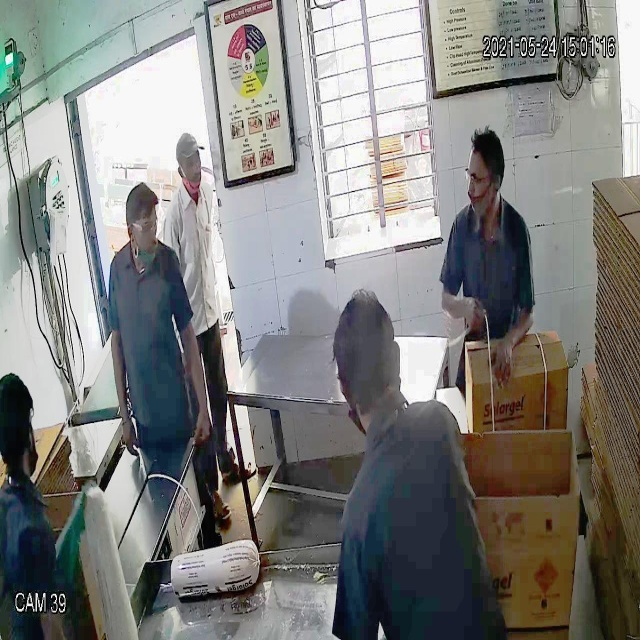Gafas: (459, 160, 502, 191), (123, 214, 163, 241)
Sin_gafas: (175, 152, 207, 175)
